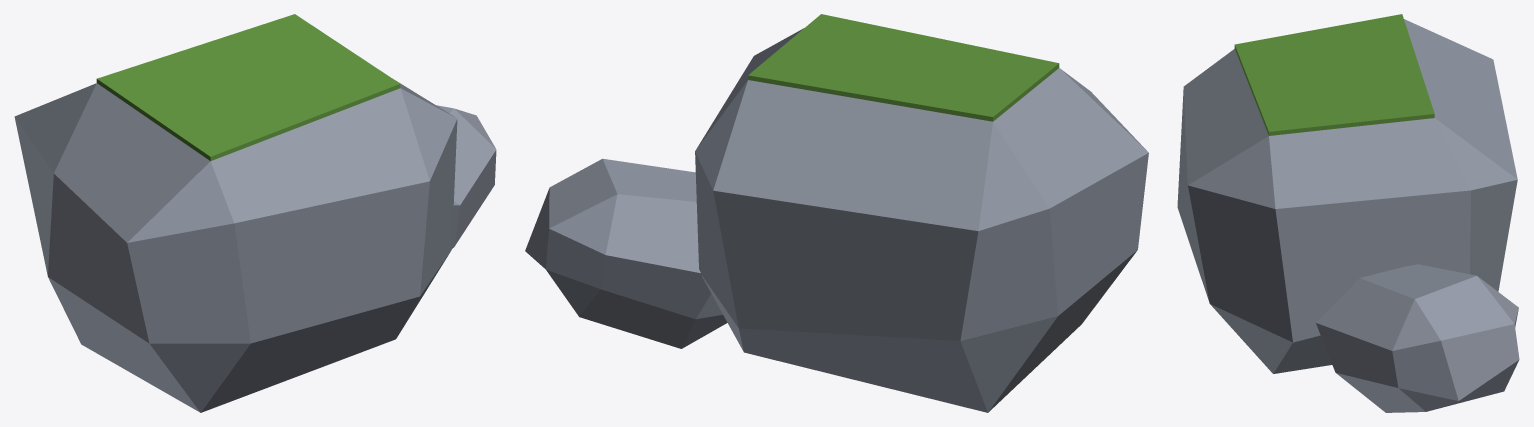
The model's file is Rock1.fbx.
The picture shows the model from 3 angles, left to right: view 1: azimuth 30°, elevation 25°; view 2: azimuth 150°, elevation 25°; view 3: azimuth 270°, elevation 25°; orthographic projection. The views are drawn at different scales.
Parts seen in each view (by area): view 1: Rock, Moss; view 2: Rock, Moss; view 3: Rock, Moss.
Part boxes in pixels (x1=…): Rock: x1=14, y1=80, x2=496, y2=412; Moss: x1=96, y1=14, x2=400, y2=161; Rock: x1=525, y1=28, x2=1148, y2=412; Moss: x1=748, y1=14, x2=1059, y2=121; Rock: x1=1177, y1=19, x2=1519, y2=412; Moss: x1=1234, y1=14, x2=1434, y2=135.
Size of the model in its own units: 5.68 by 3.12 by 3.75.
